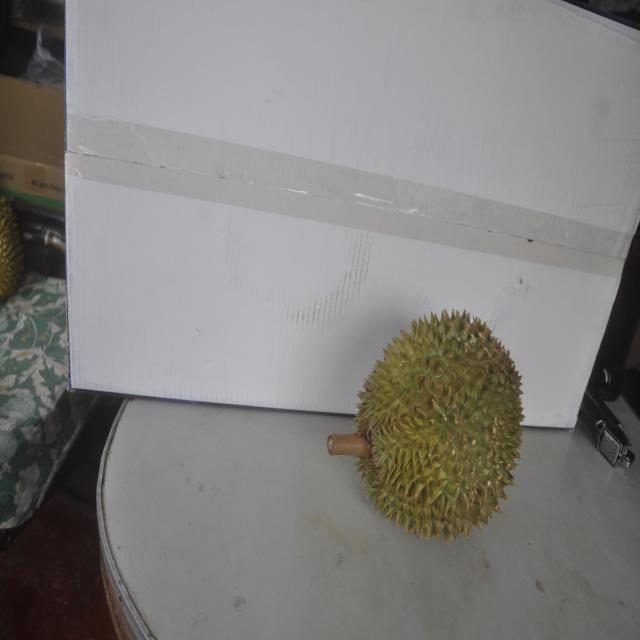mature: (344, 304, 527, 542)
